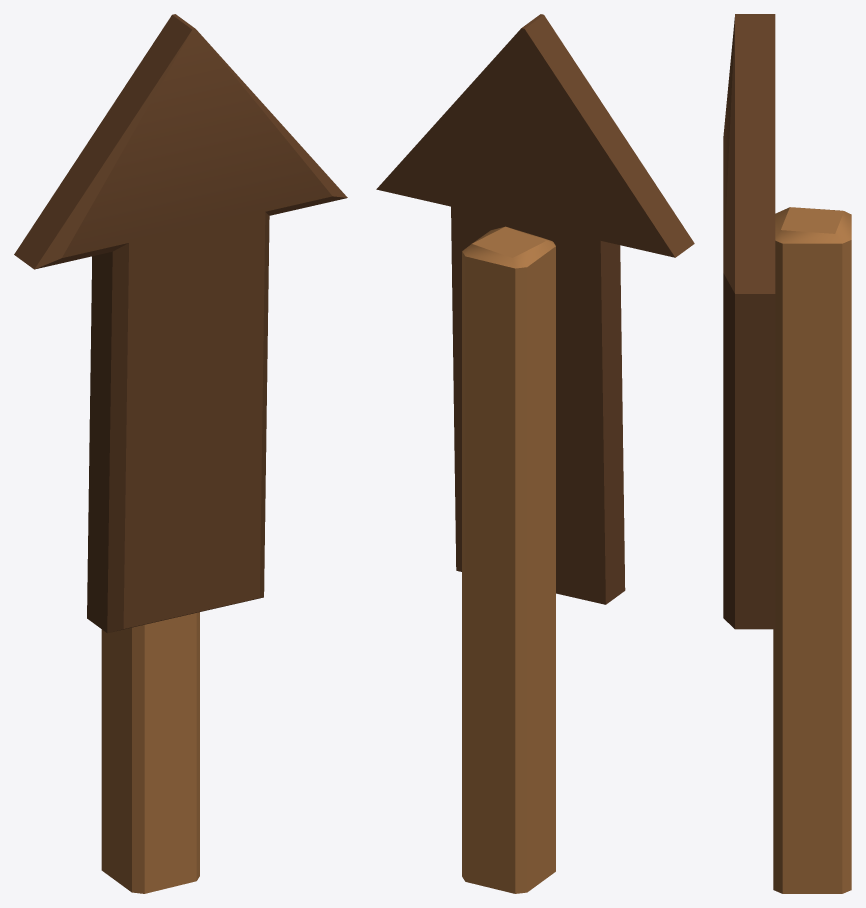
File: cc0-arrow-up-lod1.glb
3 renders of one model, left to right at view 1: azimuth 30°, elevation 25°; view 2: azimuth 150°, elevation 25°; view 3: azimuth 270°, elevation 25°, orthographic. The views are drawn at different scales.
Parts seen in each view (by area): view 1: part_0; view 2: part_0; view 3: part_0.
Boxes of the visible parts, box(x1,y1,x2,y2) form: part_0: box(14, 14, 347, 893); part_0: box(376, 14, 694, 893); part_0: box(723, 14, 851, 893).
Bounding box in the file's own units: 1.02 × 2.7 × 0.3632.
